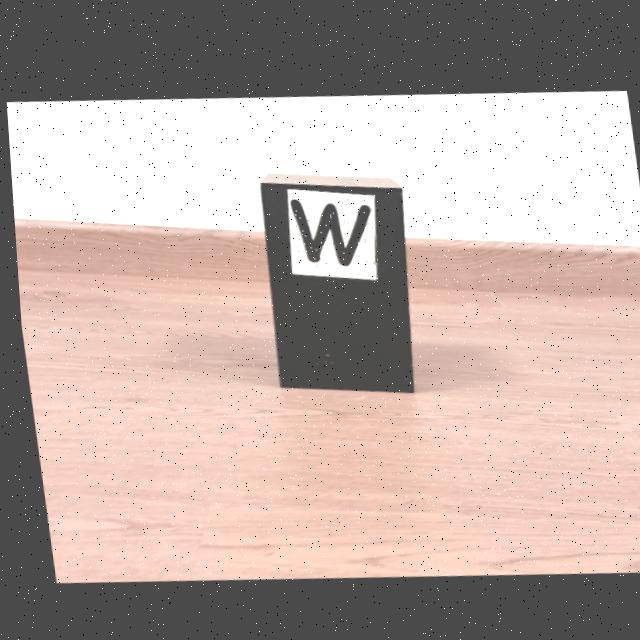W: (287, 196, 368, 262)
